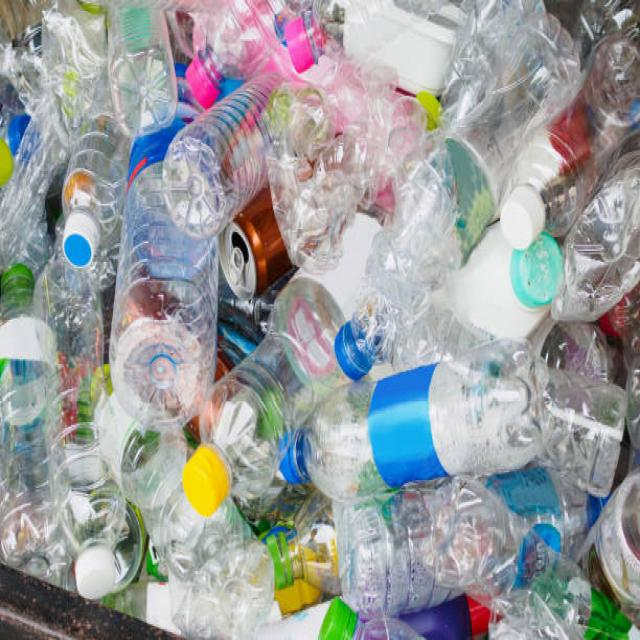plastic: (33, 35, 547, 563)
